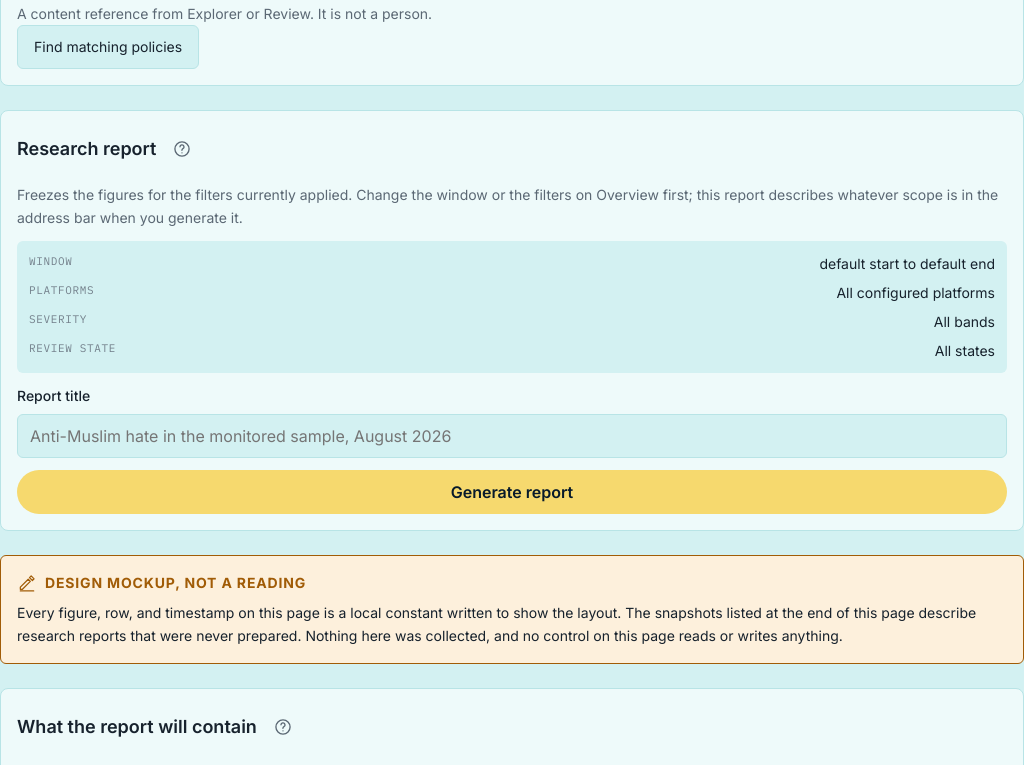
Scenario: ReportsPage › states that CSV carries aggregates only without implying a frontend permission gate
The image size is (1024, 765).
(page scrolled)
Type "August monitored sample" into the field labelled "Report title".
click(512, 436); type("August monitored sample")  # box [17, 414, 1007, 458]
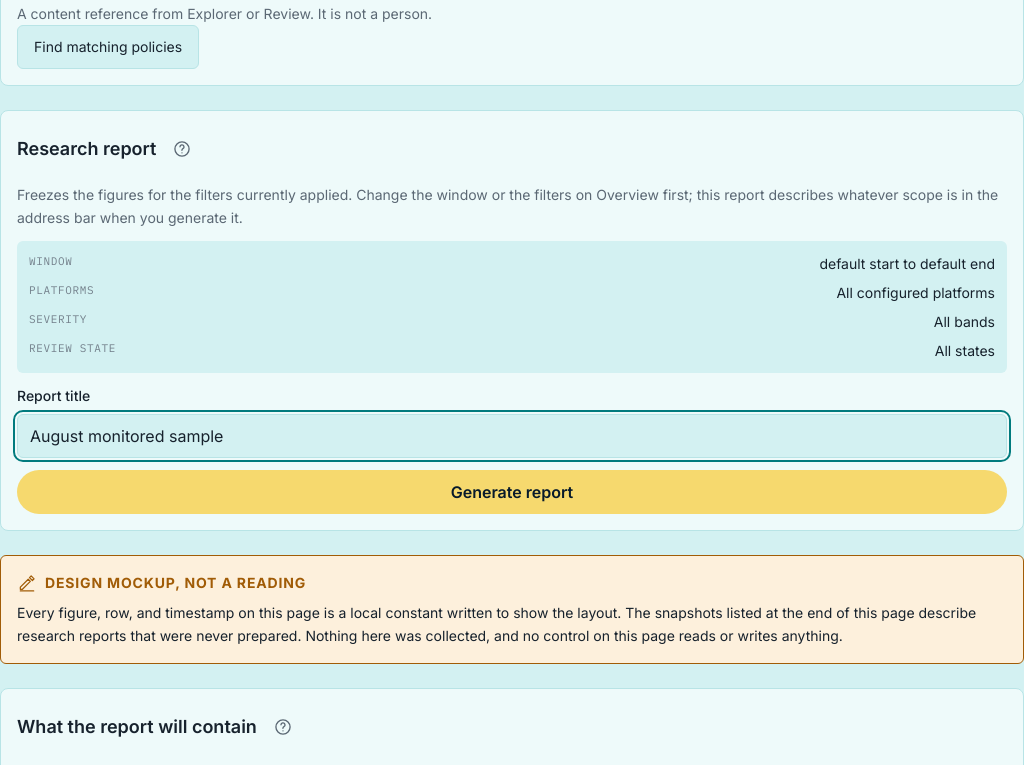
Click the button "Generate report".
click(512, 492)  # box [17, 470, 1007, 514]
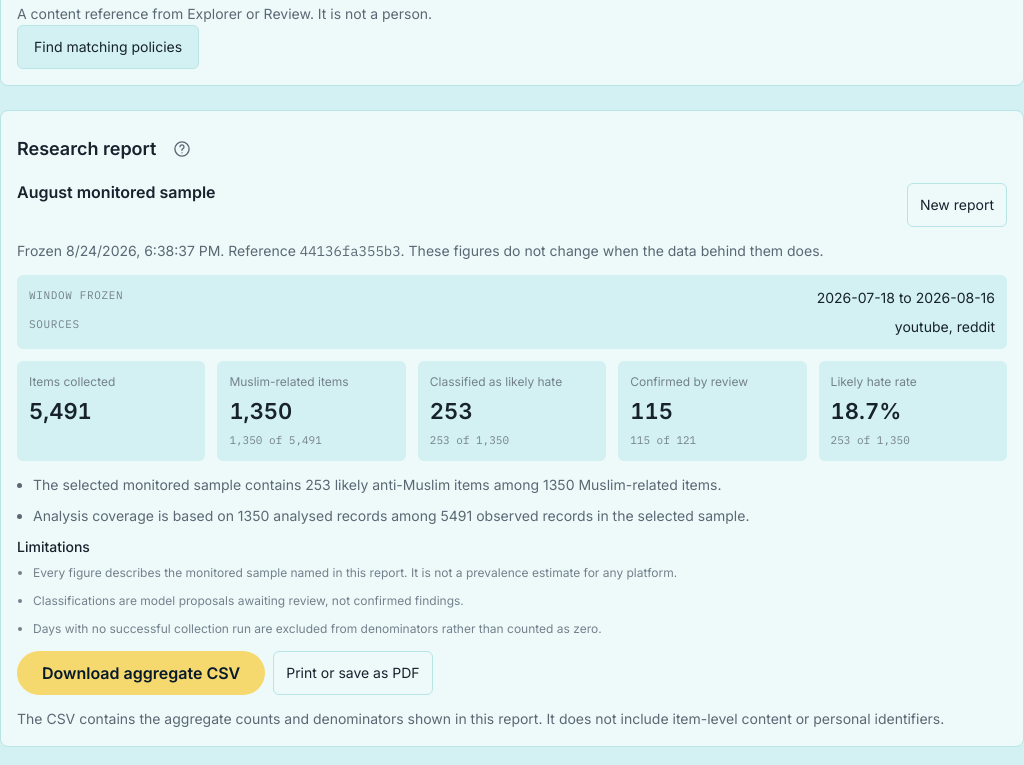
Expected: the text "contains the aggregate counts and denominators" does not show "elevated permission", [17, 707, 1007, 730]
Expected: the text "contains the aggregate counts and denominators" shows "does not include item-level content or personal identifiers", [17, 710, 944, 727]
